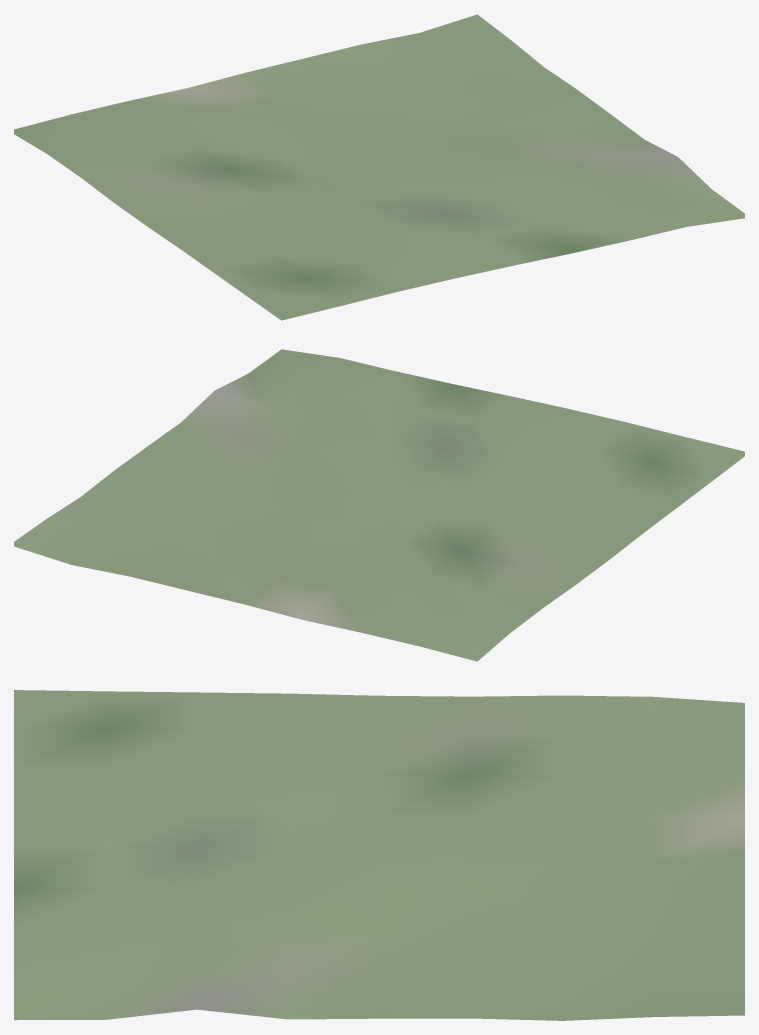
3 renders of one model, top to bottom at view 1: azimuth 30°, elevation 25°; view 2: azimuth 150°, elevation 25°; view 3: azimuth 270°, elevation 25°, orthographic. The views are drawn at different scales.
Parts seen in each view (by area): view 1: prim0; view 2: prim0; view 3: prim0.
Boxes of the visible parts, <box> form: prim0: <box>14,14,744,320</box>; prim0: <box>14,349,744,661</box>; prim0: <box>14,690,744,1020</box>.
Size of the model in its own units: 512 by 17.95 by 512.
